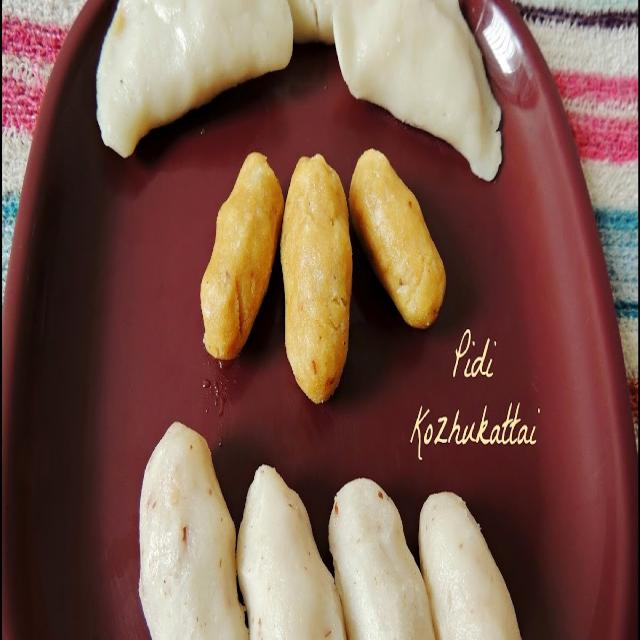pidi kolukattai: (142, 352, 565, 640), (189, 115, 433, 386)
